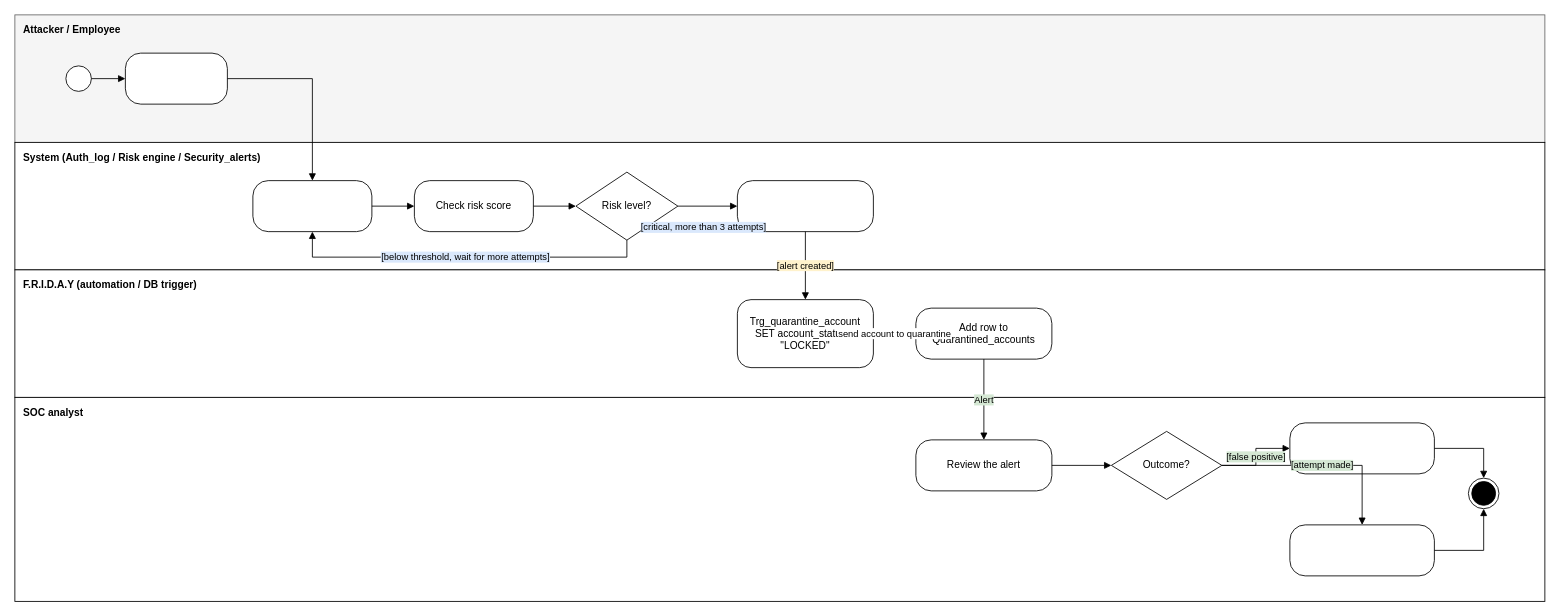
Image size: 1560x616. Some labels were removed from this diagram. Here are the shapes that lost their labels. From the top down, the centre of each, then its label:
(x=176, y=78): Log in
(x=312, y=206): Write attempt in Auth_log
(x=805, y=206): Write alert in Security_alerts
(x=1361, y=448): Update account_status = "UNLOCKED"
(x=1361, y=550): Report attempt to be investigated
